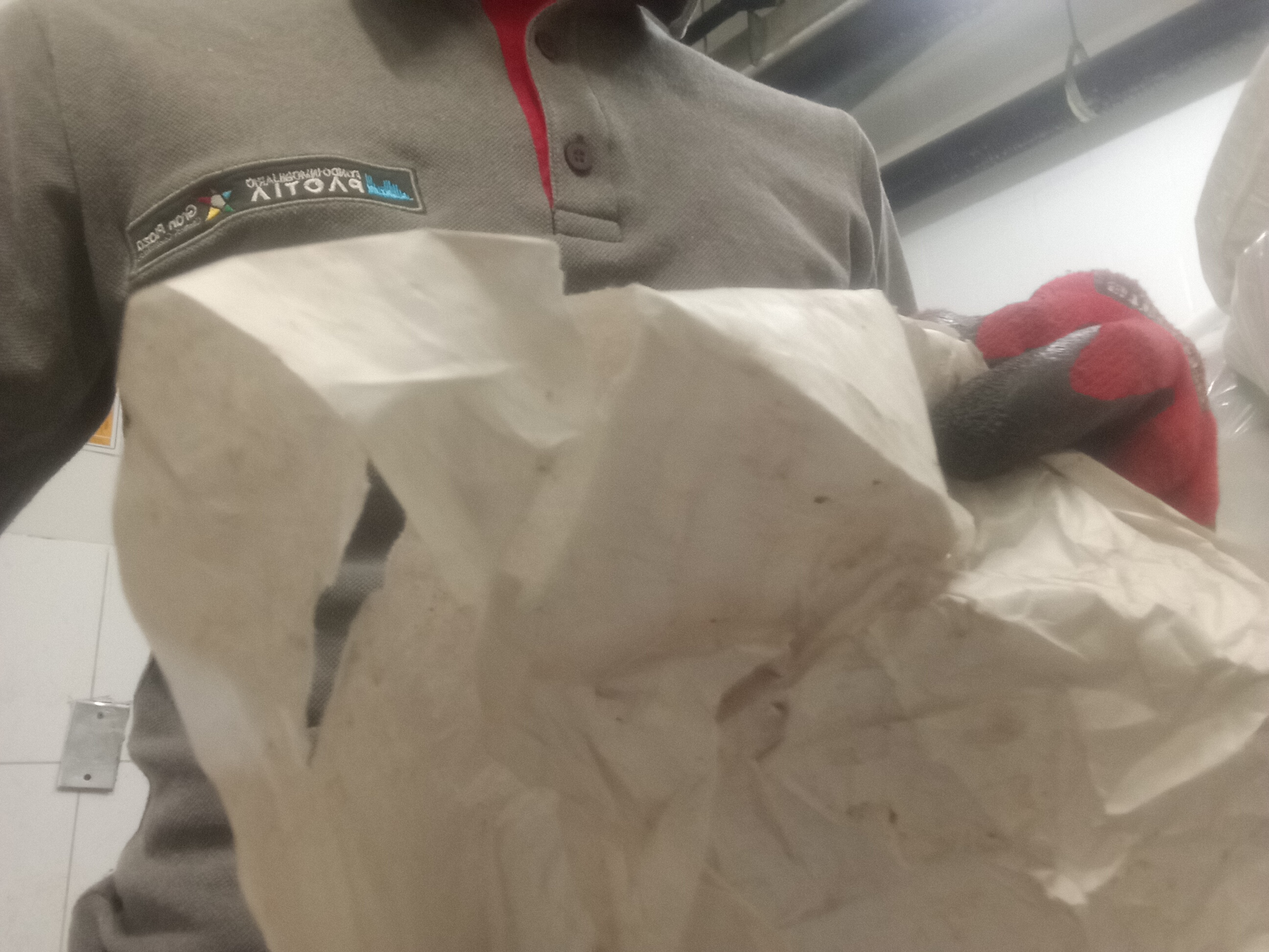Papel: (112, 227, 1269, 952)
